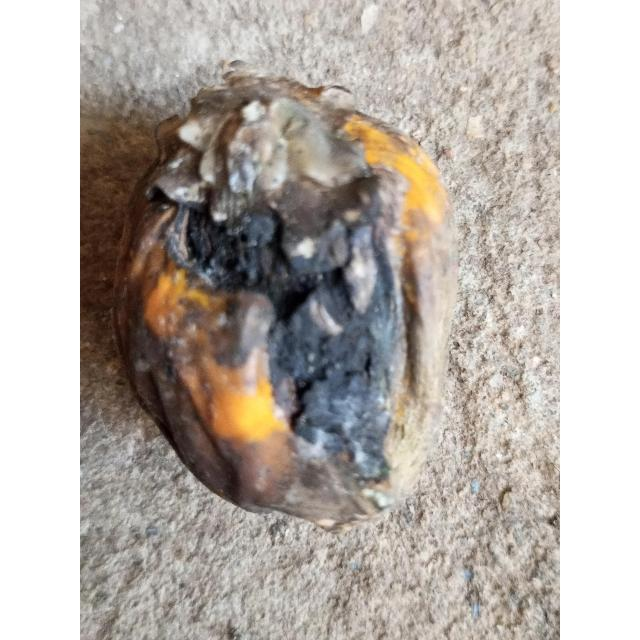damaged: (114, 61, 456, 529)
